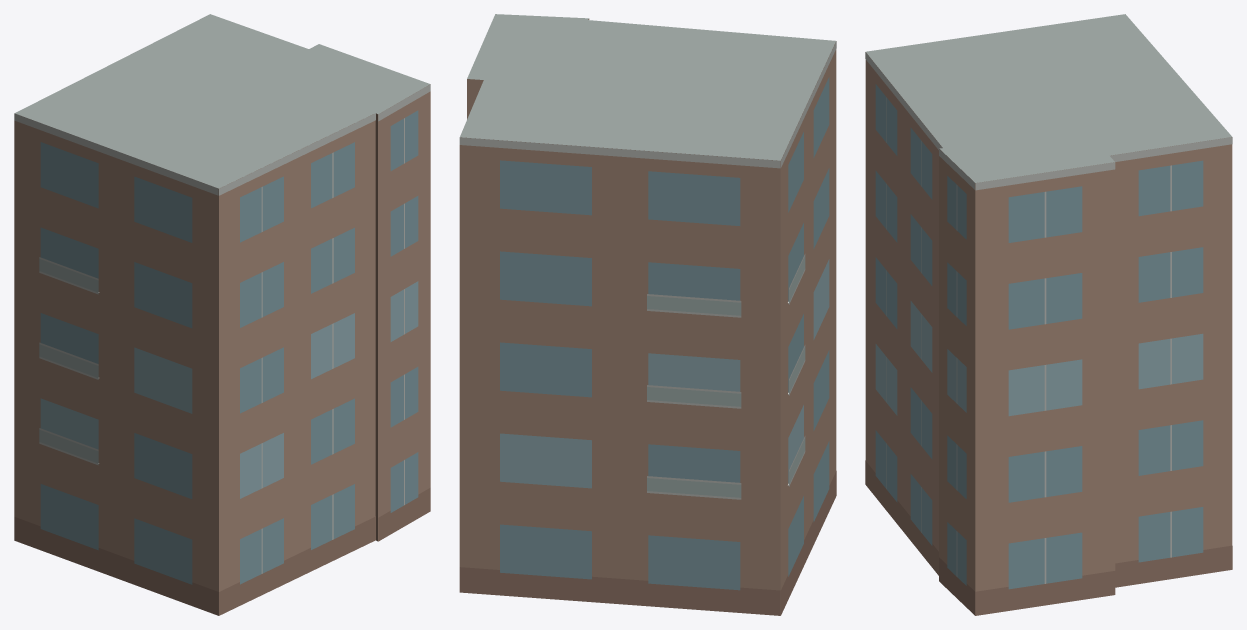
The model's file is survey-upis-32703982.glb.
The picture shows the model from 3 angles, left to right: view 1: azimuth 30°, elevation 25°; view 2: azimuth 150°, elevation 25°; view 3: azimuth 270°, elevation 25°; orthographic projection. The views are drawn at different scales.
Parts seen in each view (by area): view 1: survey-upis-32703982.tmp; view 2: survey-upis-32703982.tmp; view 3: survey-upis-32703982.tmp.
Boxes of the visible parts, left/top/right/bottom form: survey-upis-32703982.tmp: left=14, top=14, right=430, bottom=615; survey-upis-32703982.tmp: left=459, top=14, right=836, bottom=615; survey-upis-32703982.tmp: left=865, top=14, right=1232, bottom=615.
Bounding box in the file's own units: 12.07 × 14.4 × 11.08.
